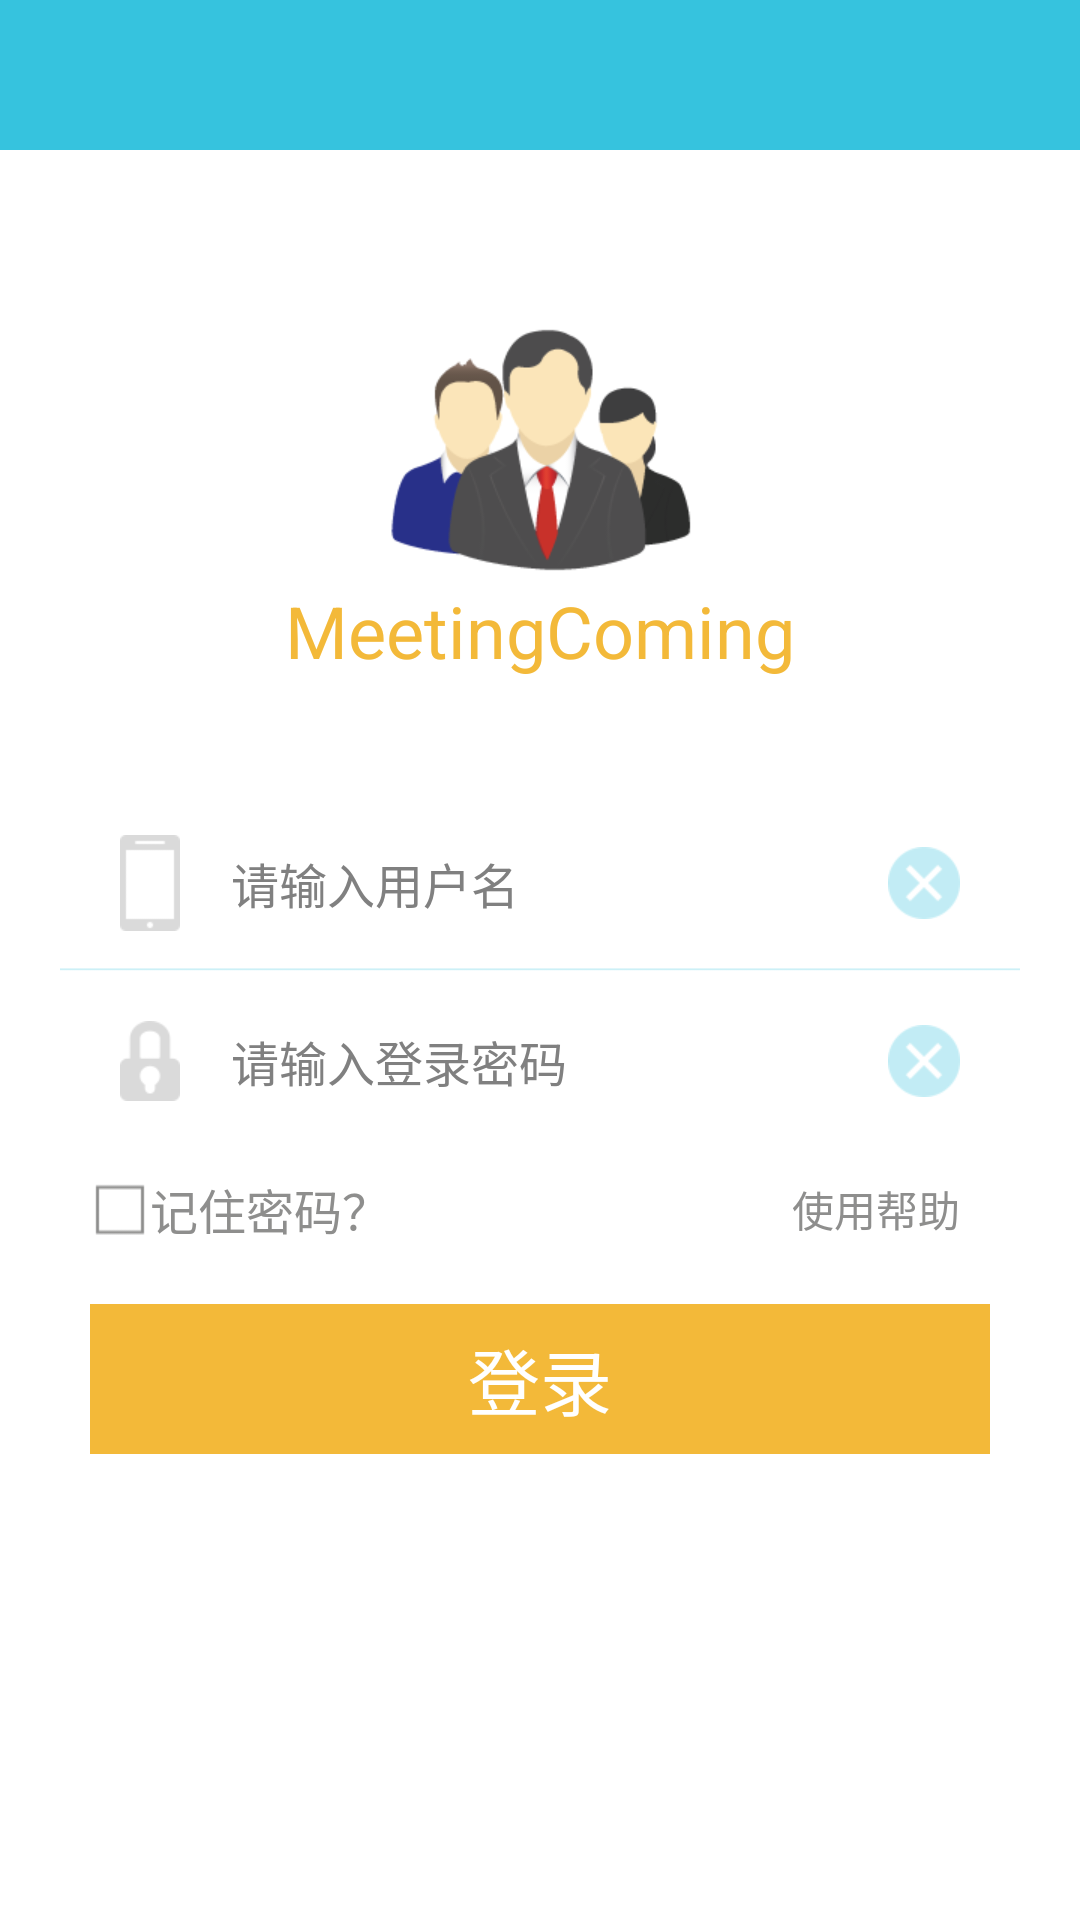

Named icons in this screenshot (1080 x 1920) and their centers, (x,y):
login name: (150,883)
login passwd: (150,1061)
